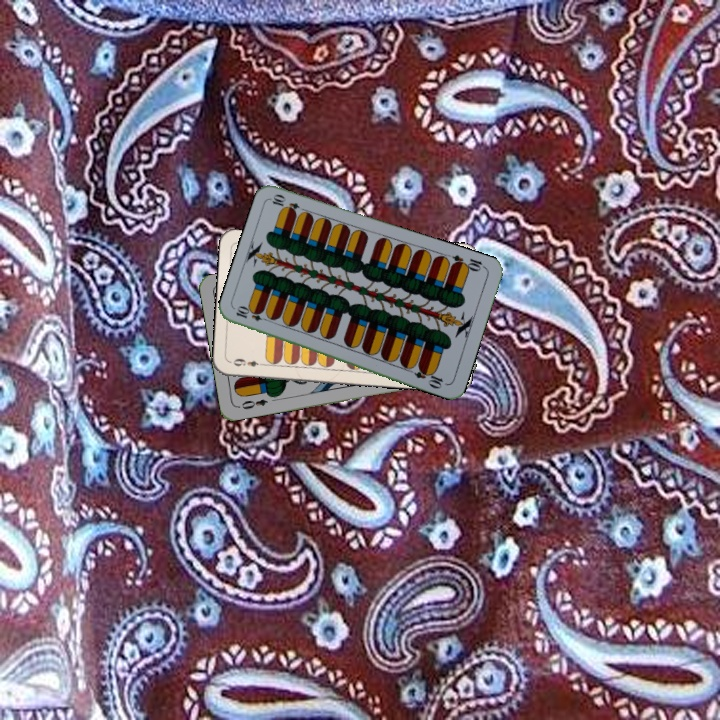E10: (447, 251, 488, 274), (232, 304, 272, 324)
E9: (229, 354, 267, 369)
EO: (237, 395, 270, 412)
